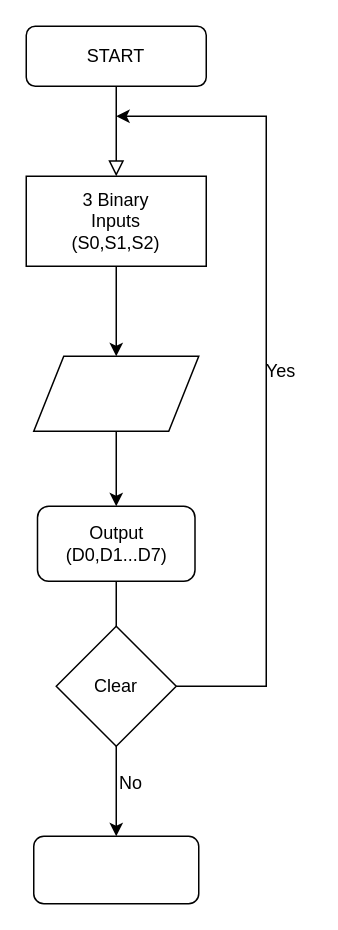
This 338x930 diagram has some shape labels left out. Here are the shapes that lost their labels. From the top down, the centre of each, then its label:
At pixel 115 393: "Logical Operations".
At pixel 115 869: "END".
